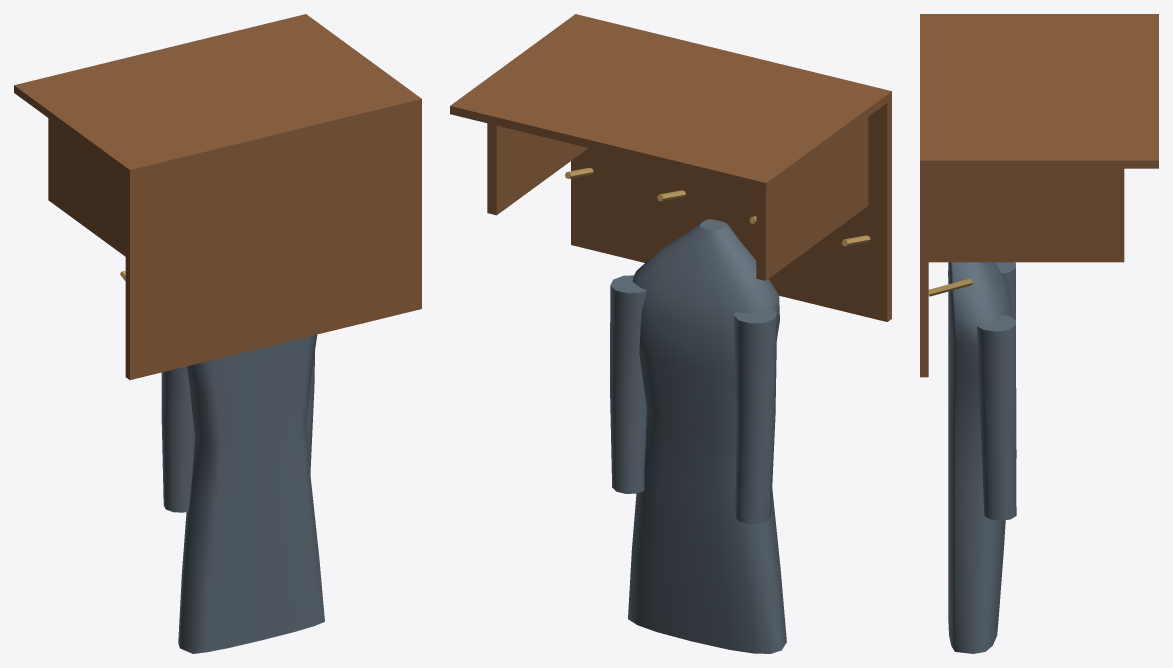
File: parametric-wall-coat-rack-1st-0800x0550x1950.glb
3 renders of one model, left to right at view 1: azimuth 30°, elevation 25°; view 2: azimuth 150°, elevation 25°; view 3: azimuth 270°, elevation 25°, orthographic. The views are drawn at different scales.
Parts seen in each view (by area): view 1: backboard, coat:0, hat-shelf, bracket:-1, coat-sleeve:0:-1; view 2: coat:0, hat-shelf, backboard, bracket:-1, coat-sleeve:0:-1, coat-sleeve:0:1, bracket:1; view 3: hat-shelf, bracket:1, coat:0, coat-sleeve:0:1, backboard, coat-sleeve:0:-1.
Boxes of the visible parts, x1,y1,x2,y2 form: backboard: [125, 106, 421, 379]; coat:0: [178, 334, 324, 653]; hat-shelf: [14, 14, 421, 177]; bracket:-1: [48, 118, 125, 256]; coat-sleeve:0:-1: [161, 366, 194, 512]; coat:0: [628, 219, 786, 653]; hat-shelf: [450, 14, 891, 191]; backboard: [571, 100, 891, 321]; bracket:-1: [756, 117, 868, 280]; coat-sleeve:0:-1: [733, 309, 777, 524]; coat-sleeve:0:1: [610, 275, 646, 493]; bracket:1: [487, 123, 588, 215]; hat-shelf: [920, 14, 1158, 168]; bracket:1: [928, 168, 1124, 262]; coat:0: [948, 262, 1012, 653]; coat-sleeve:0:1: [977, 314, 1016, 520]; backboard: [920, 168, 928, 377]; coat-sleeve:0:-1: [995, 262, 1016, 458].
Size of the model in its own units: 0.8 by 1.35 by 0.55.
